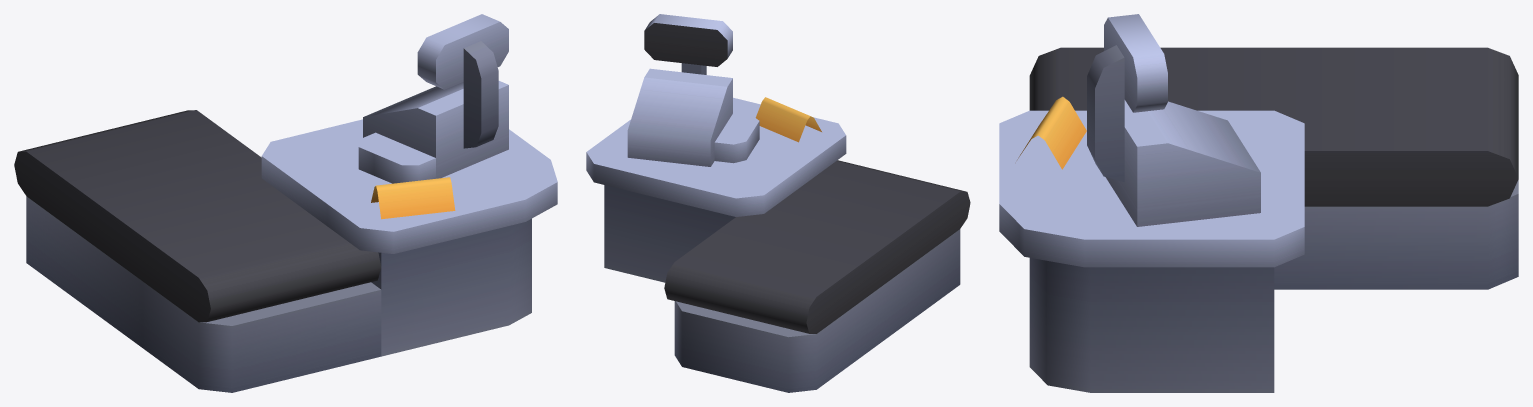
File: cash-register.glb
The picture shows the model from 3 angles, left to right: view 1: azimuth 30°, elevation 25°; view 2: azimuth 150°, elevation 25°; view 3: azimuth 270°, elevation 25°; orthographic projection. The views are drawn at different scales.
Visible parts, largest first — view 1: cash-register; view 2: cash-register; view 3: cash-register.
Part boxes in pixels (x1,y1,x2,y2): cash-register: (14, 14, 557, 392); cash-register: (586, 14, 970, 392); cash-register: (999, 14, 1518, 392).
Size of the model in its own units: 0.85 by 0.5949 by 0.85.
1 material, 1 textured.
